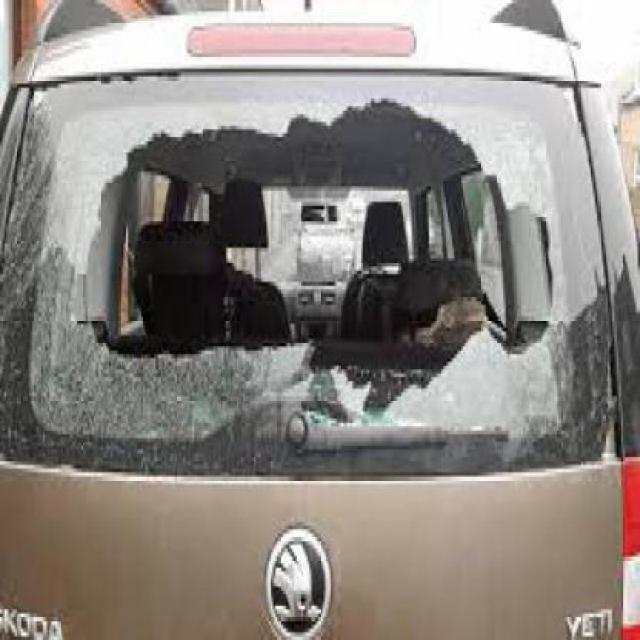Rear-windscreen-Damage: (13, 46, 613, 530)
